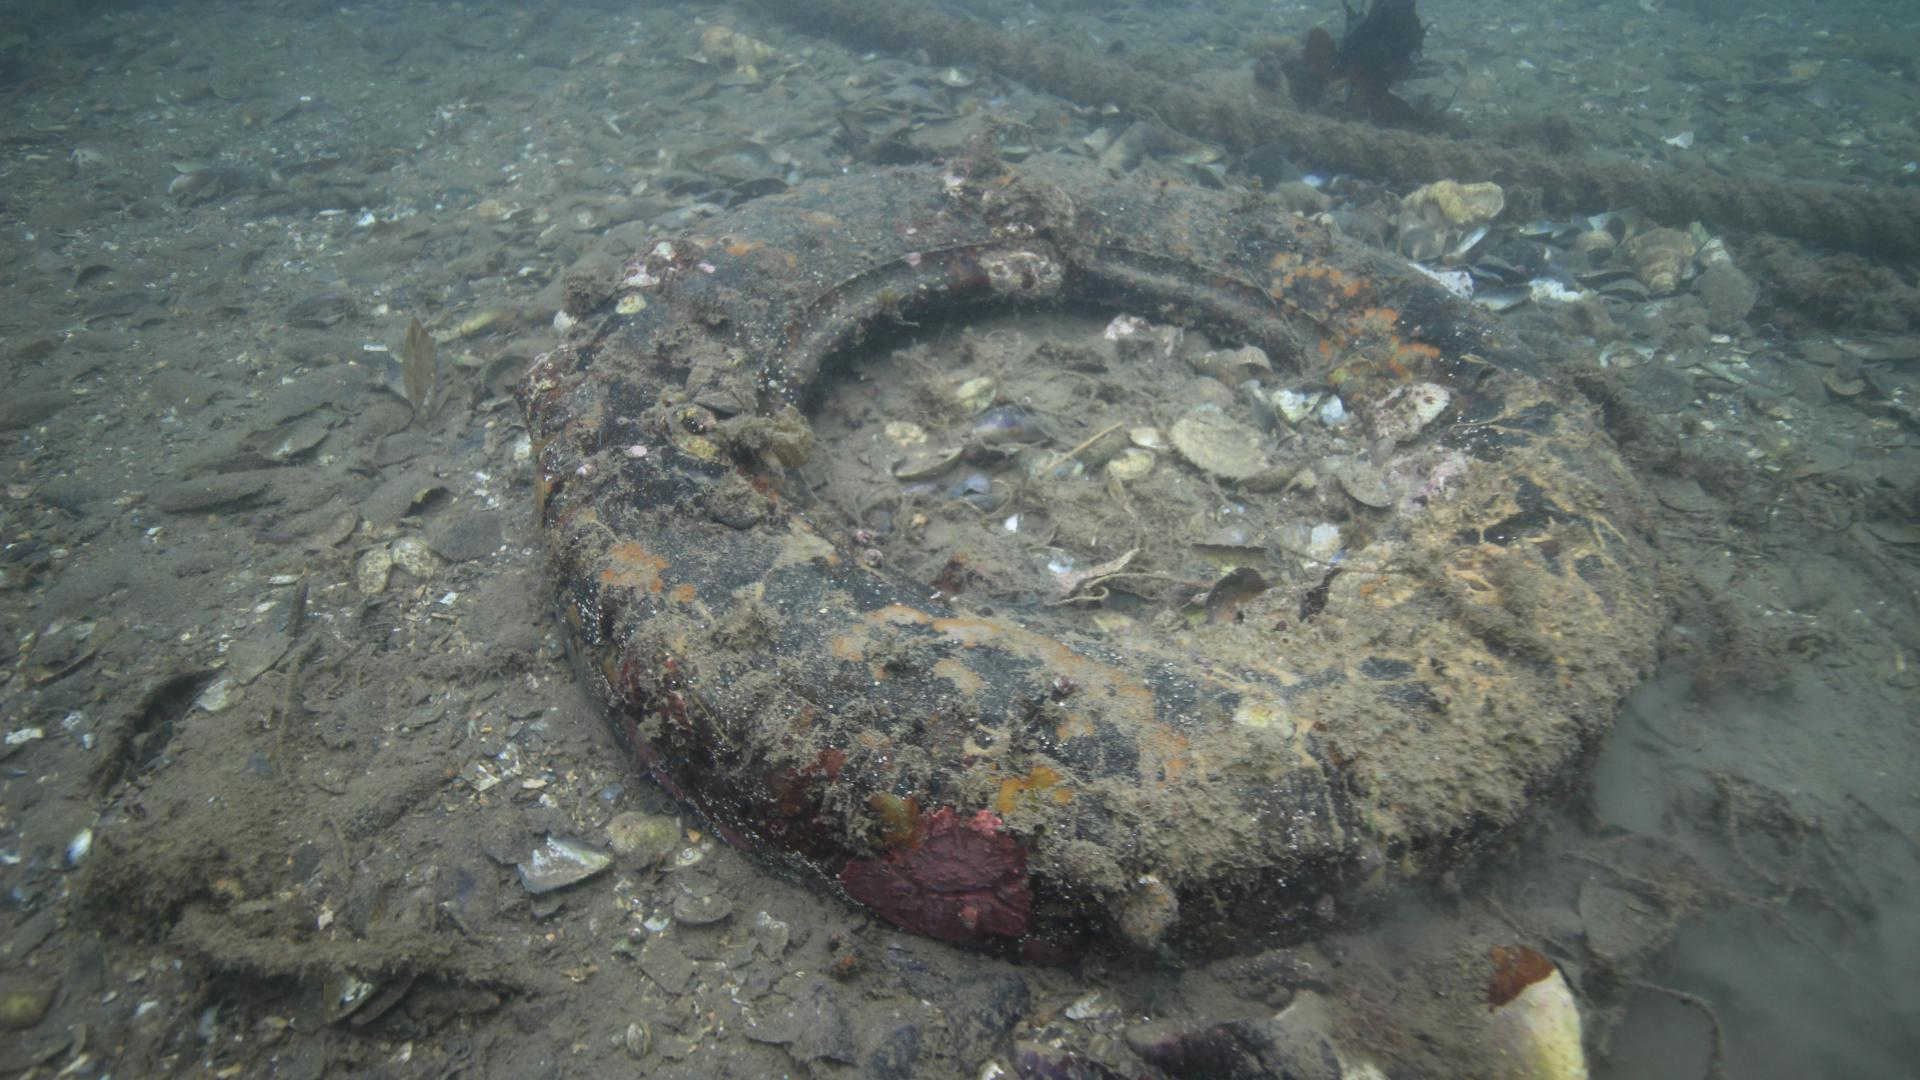rope: (733, 0, 1920, 261)
tire: (531, 157, 1658, 969)
